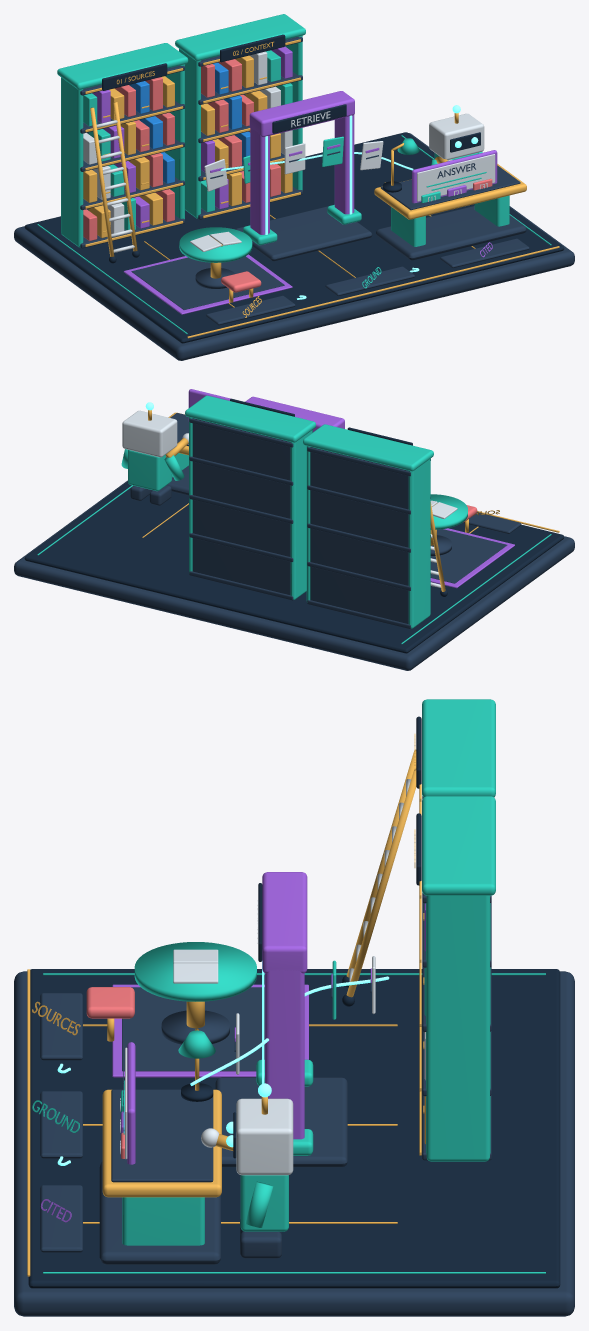
Rendered from 07-rag-library.glb.
The picture shows the model from 3 angles, top to bottom: view 1: azimuth 30°, elevation 25°; view 2: azimuth 150°, elevation 25°; view 3: azimuth 270°, elevation 25°; orthographic projection. The views are drawn at different scales.
Parts seen in each view (by area): view 1: Library inset floor, Knowledge library foundation, Answer assembly desk foot, Rug inset, Archive shelf upright, Retrieve arch landing, Archive shelf canopy, Archive shelf canopy.001, Archive shelf upright.002, Retrieval arch lintel, Answer card assembled page, Retrieval arch column (+46 smaller); view 2: Library inset floor, Archive shelf backing, Archive shelf backing.001, Knowledge library foundation, Archive shelf upright, Archive shelf canopy, Archive shelf canopy.001, Archive shelf upright.002, Rug inset, Friendly citation librarian head, Friendly citation librarian body, Retrieval arch lintel (+16 smaller); view 3: Library inset floor, Knowledge library foundation, Archive shelf upright.003, Answer desk writing surface, Archive shelf canopy.001, Archive shelf canopy, Rug inset, Retrieval arch column.001, Retrieve arch landing, Reading table round top, Retrieval arch lintel, Answer assembly desk foot (+19 smaller).
Part boxes in pixels (x1,y1,x2,y2): Library inset floor: [24, 132, 564, 343]; Knowledge library foundation: [14, 133, 574, 360]; Answer assembly desk foot: [376, 205, 526, 260]; Rug inset: [131, 256, 284, 309]; Archive shelf upright: [61, 77, 83, 247]; Retrieve arch landing: [235, 205, 372, 261]; Archive shelf canopy: [57, 43, 188, 89]; Archive shelf canopy.001: [175, 14, 305, 60]; Archive shelf upright.002: [179, 49, 200, 218]; Retrieval arch lintel: [249, 91, 354, 137]; Answer card assembled page: [417, 154, 495, 201]; Retrieval arch column: [250, 127, 269, 234]; Library inset floor: [24, 482, 564, 653]; Archive shelf backing: [310, 447, 408, 623]; Archive shelf backing.001: [192, 418, 290, 595]; Knowledge library foundation: [14, 480, 574, 670]; Archive shelf upright: [408, 459, 430, 628]; Archive shelf canopy: [303, 424, 433, 471]; Archive shelf canopy.001: [185, 395, 315, 442]; Archive shelf upright.002: [290, 430, 312, 599]; Rug inset: [430, 529, 507, 583]; Friendly citation librarian head: [122, 410, 177, 457]; Friendly citation librarian body: [128, 450, 171, 491]; Retrieval arch lintel: [245, 396, 344, 431]; Library inset floor: [28, 969, 560, 1288]; Knowledge library foundation: [14, 971, 574, 1316]; Archive shelf upright.003: [426, 895, 490, 1161]; Answer desk writing surface: [111, 1089, 213, 1182]; Archive shelf canopy.001: [422, 796, 495, 895]; Archive shelf canopy: [422, 699, 495, 797]; Rug inset: [122, 987, 264, 1071]; Retrieval arch column.001: [265, 969, 304, 1139]; Retrieve arch landing: [215, 1077, 347, 1167]; Reading table round top: [134, 942, 256, 1001]; Retrieval arch lintel: [262, 872, 307, 973]; Answer assembly desk foot: [99, 1162, 220, 1264].
Size of the model in its own units: 12 by 5.35 by 8.7.
